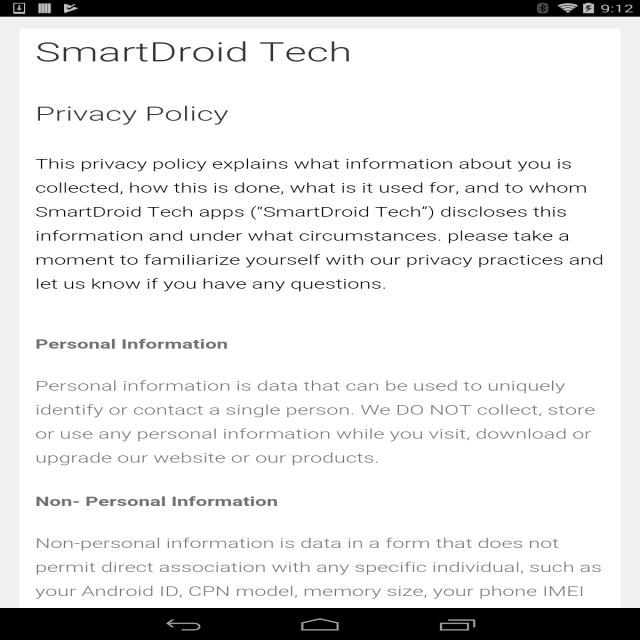TextView: (30, 156, 612, 269), (28, 533, 610, 600), (32, 376, 604, 444), (34, 36, 357, 69), (35, 100, 232, 128), (31, 490, 286, 510), (32, 333, 238, 352)
